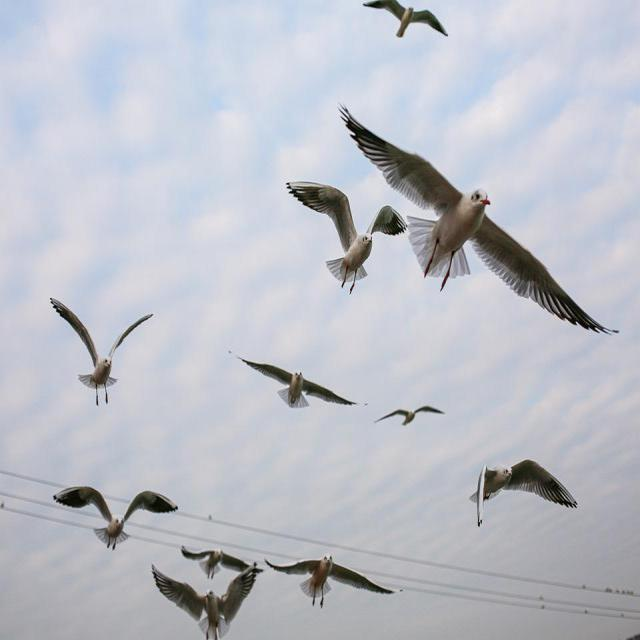bird: (333, 94, 621, 340), (284, 179, 409, 298), (48, 293, 156, 408), (50, 475, 180, 555), (226, 344, 370, 412), (466, 452, 581, 532), (149, 562, 262, 640), (261, 550, 406, 609), (178, 536, 266, 584), (361, 0, 450, 41), (372, 401, 448, 434)
